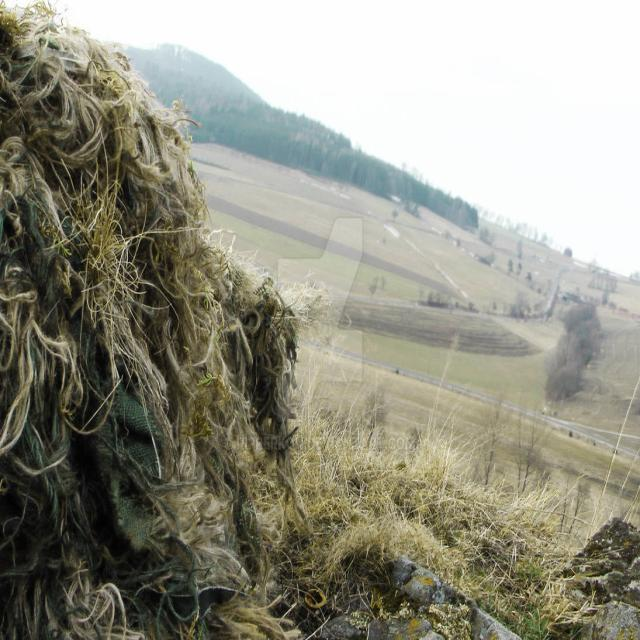Camouflage: (3, 1, 296, 616)
